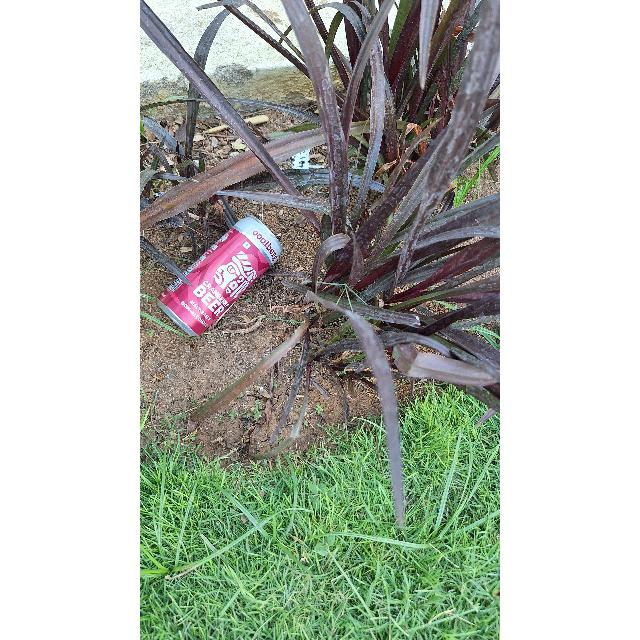Coolberg: (160, 216, 280, 330)
